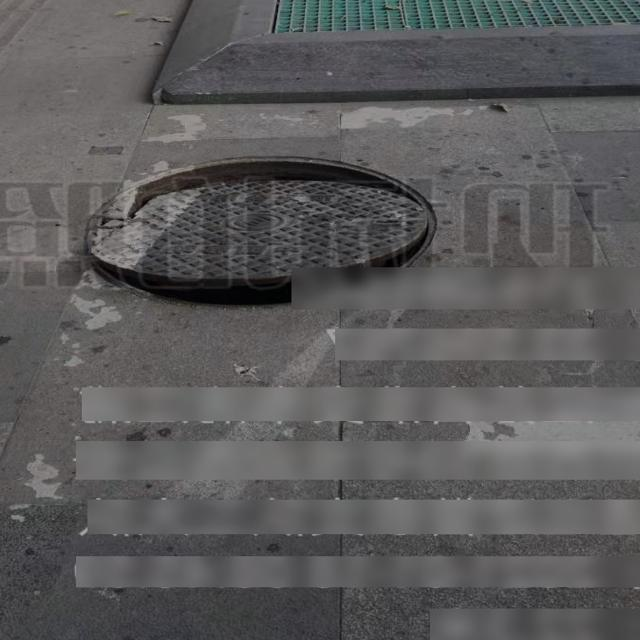uncovered: (84, 154, 438, 307)
